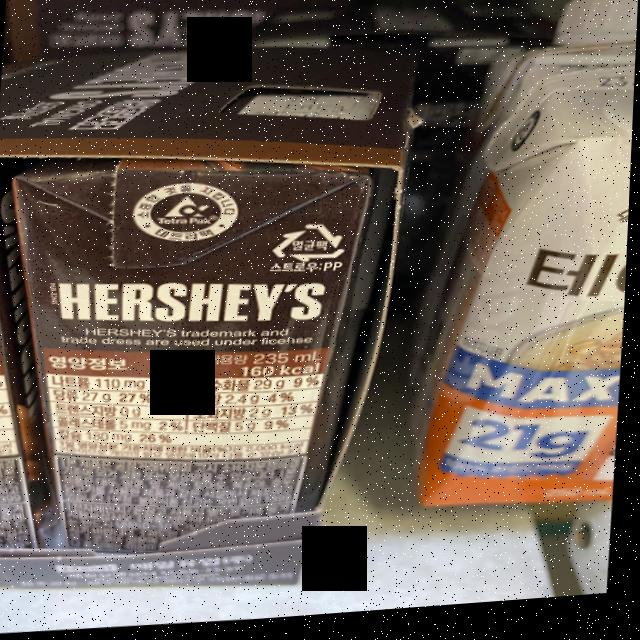SterilizedPack: (269, 222, 348, 269)
